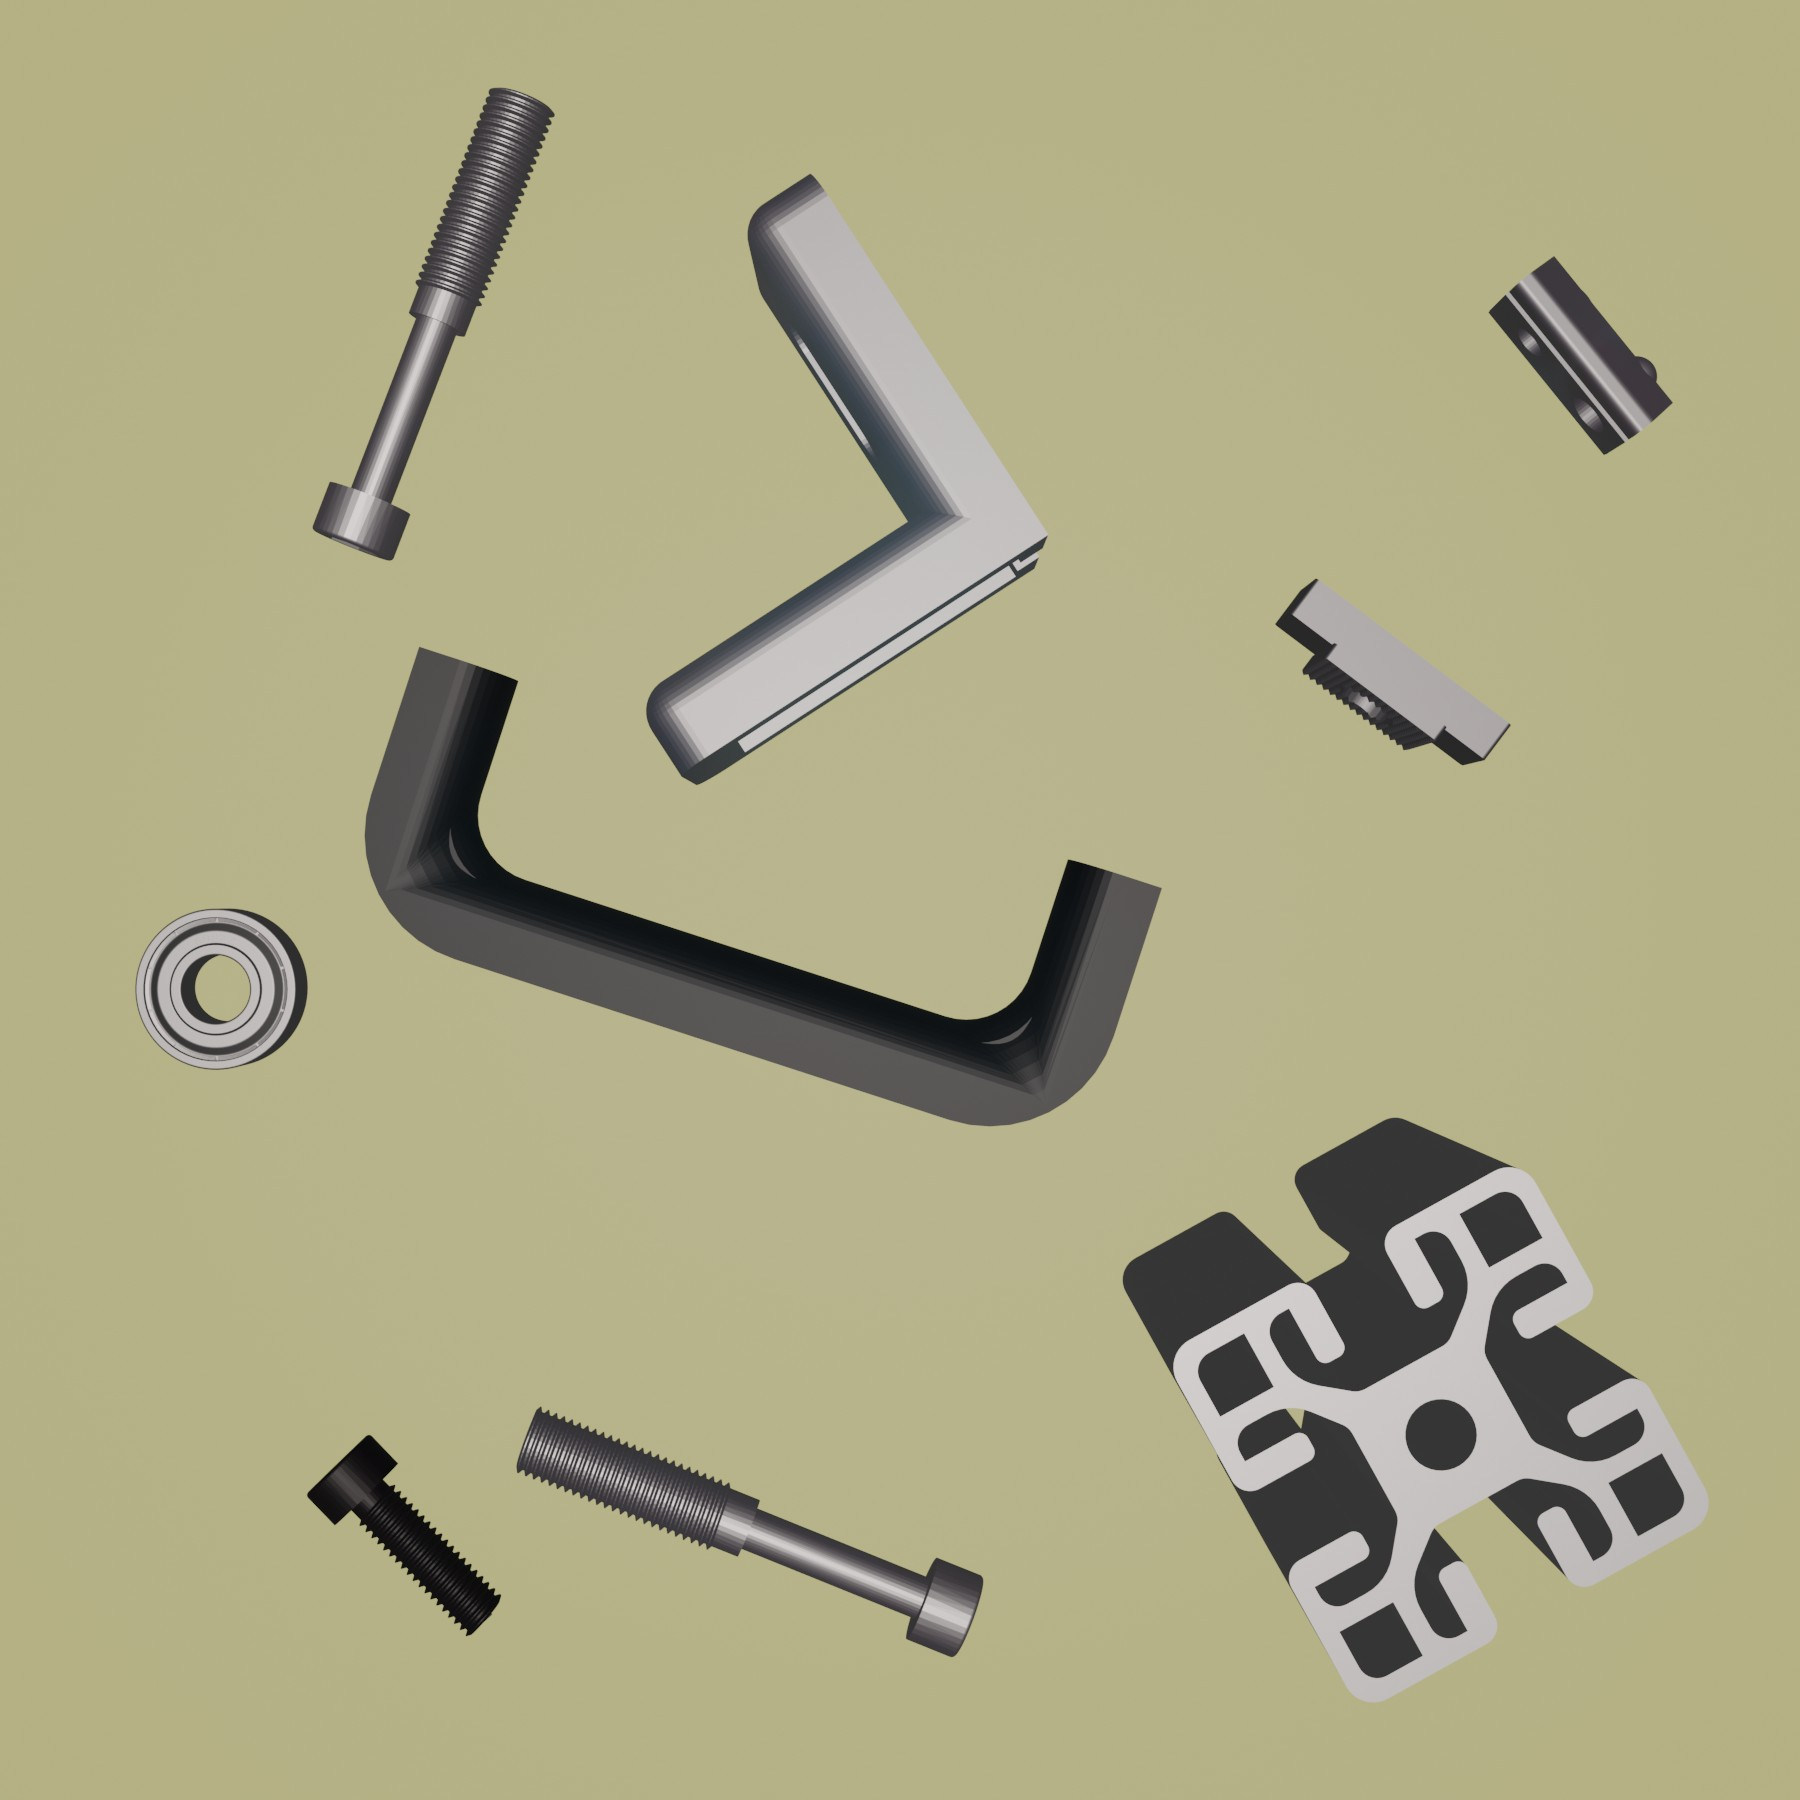Aluminium Extension: (1119, 1114, 1714, 1709)
Ball Bearing: (130, 903, 308, 1073)
Multiwinkel: (645, 168, 1052, 788)
Pull Handle: (361, 648, 1164, 1127)
Shoulder Socket Head Cap Screw: (511, 1403, 986, 1662), (312, 84, 559, 565)
Socket Head Cap Screw: (303, 1431, 504, 1638)
T Nut Square: (1269, 570, 1516, 768)
T Spring Nut: (1484, 251, 1675, 457)
